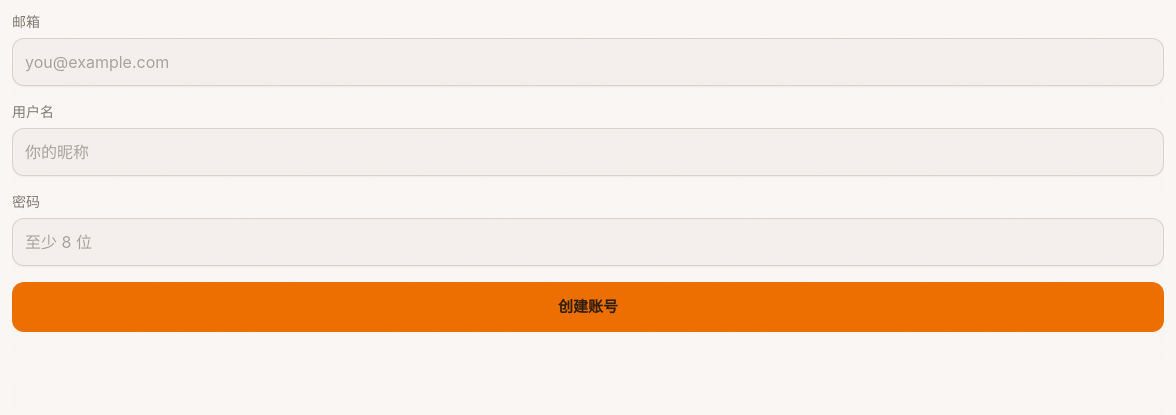
Test case: RegisterForm › shows validation error for invalid email
Click the button "创建账号": [588, 307] box [12,282,1164,332]
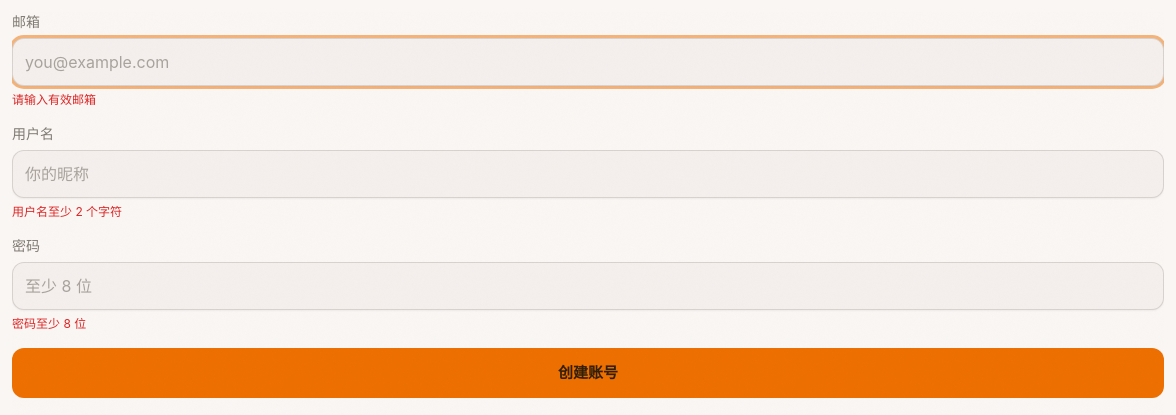
Now the text "请输入有效邮箱" is shown, box [12,92,96,107]
